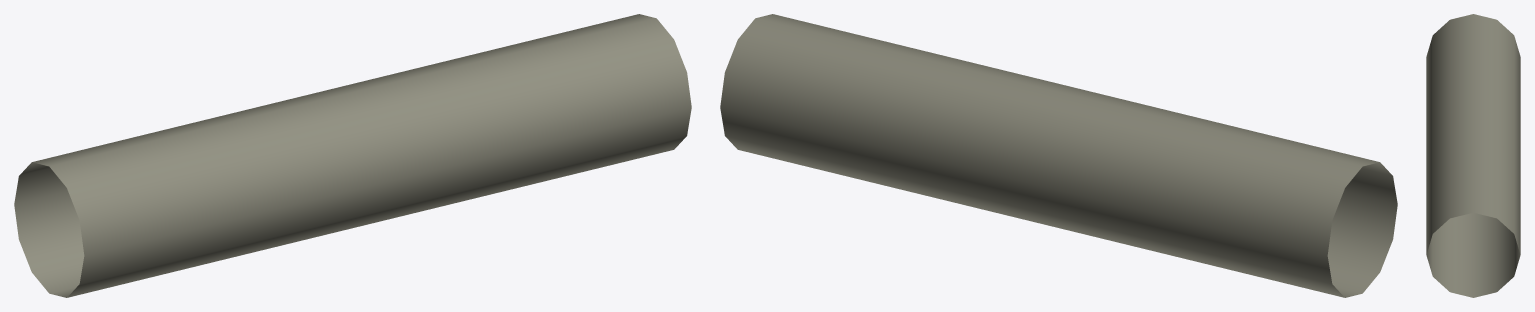
File: pipeset2_pipe.fbx
3 views of the same model, side by side, from view 1: azimuth 30°, elevation 25°; view 2: azimuth 150°, elevation 25°; view 3: azimuth 270°, elevation 25° (orthographic). The views are drawn at different scales.
Parts seen in each view (by area): view 1: pipeset2_pipe; view 2: pipeset2_pipe; view 3: pipeset2_pipe.
Part boxes in pixels (<box>): pipeset2_pipe: <box>14,14,691,297</box>; pipeset2_pipe: <box>720,14,1397,297</box>; pipeset2_pipe: <box>1426,14,1520,297</box>.
Size of the model in its own units: 600 by 120 by 120.
